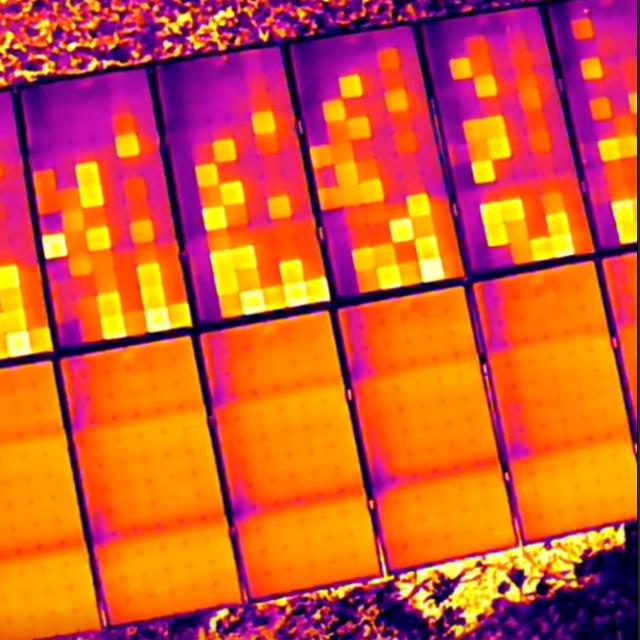hotspot group: (39, 132, 189, 339), (545, 0, 640, 256), (178, 101, 295, 240), (330, 174, 452, 289), (317, 64, 391, 211), (449, 53, 528, 184), (473, 191, 579, 265), (2, 263, 60, 364)
panel with hotspots: (148, 38, 336, 332), (416, 0, 608, 284), (283, 19, 473, 305), (13, 60, 195, 353), (555, 10, 635, 238), (201, 237, 331, 319)
